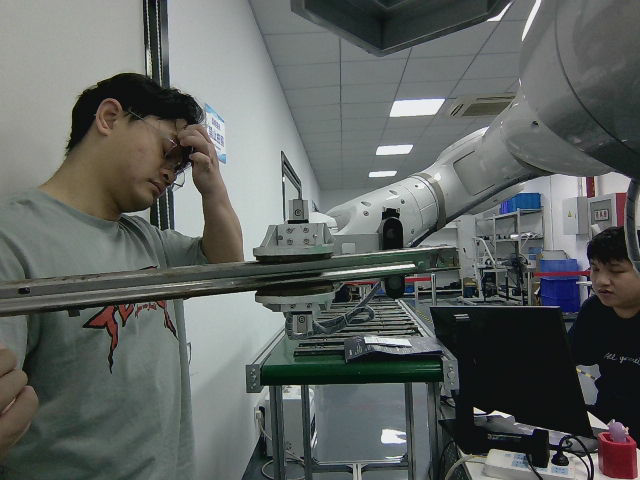down: (2, 245, 462, 317)
